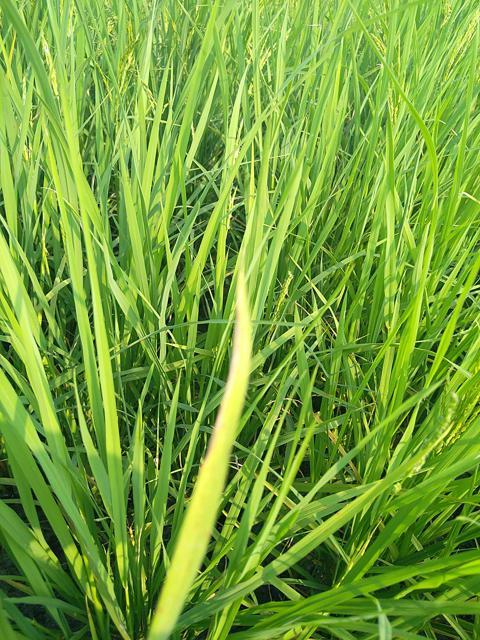Leaf Blight: (146, 245, 256, 639)
